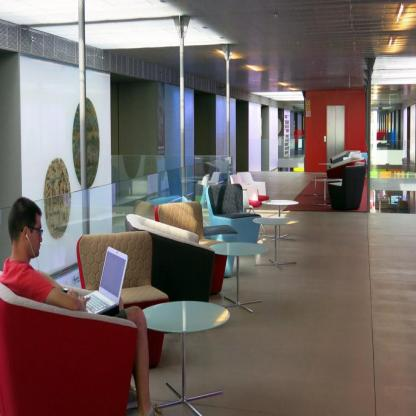board: (87, 254, 127, 313)
